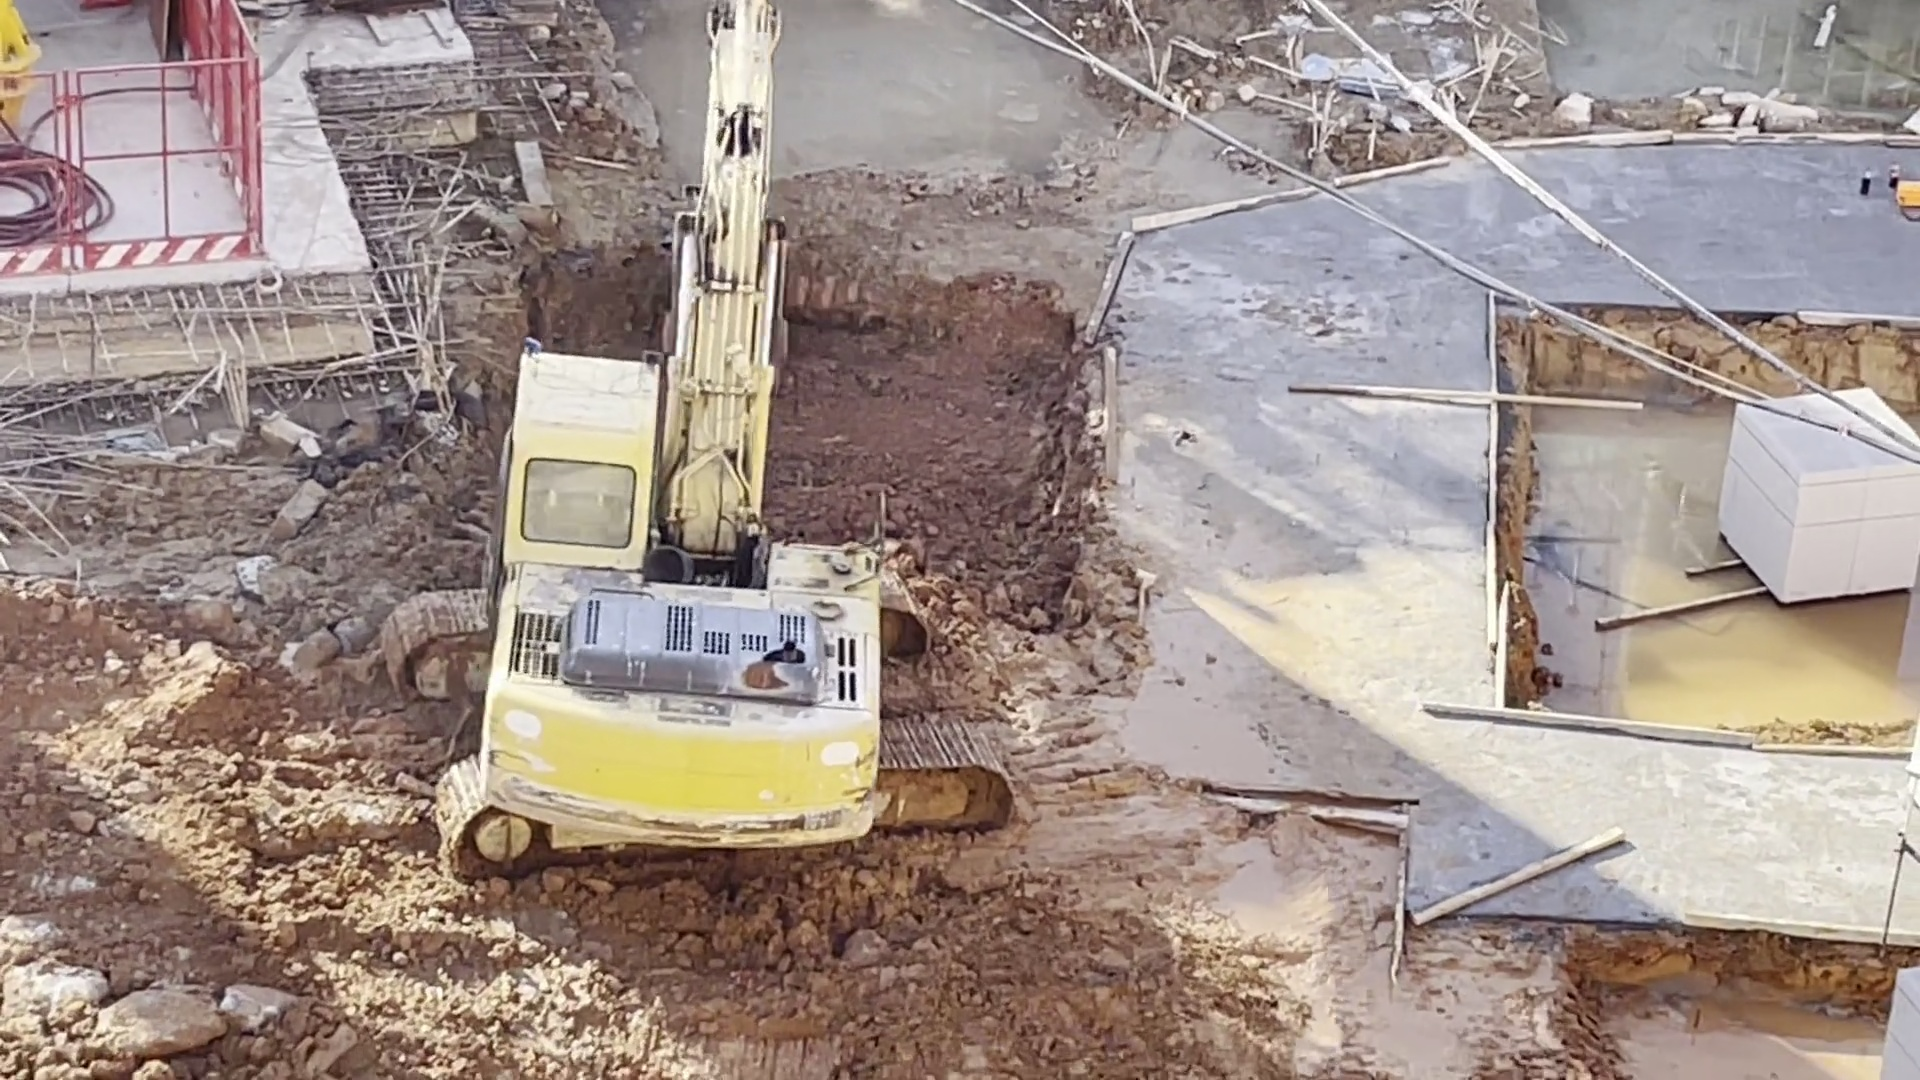brick: (1709, 458, 1920, 622)
fence: (4, 57, 255, 272), (185, 1, 262, 272)
